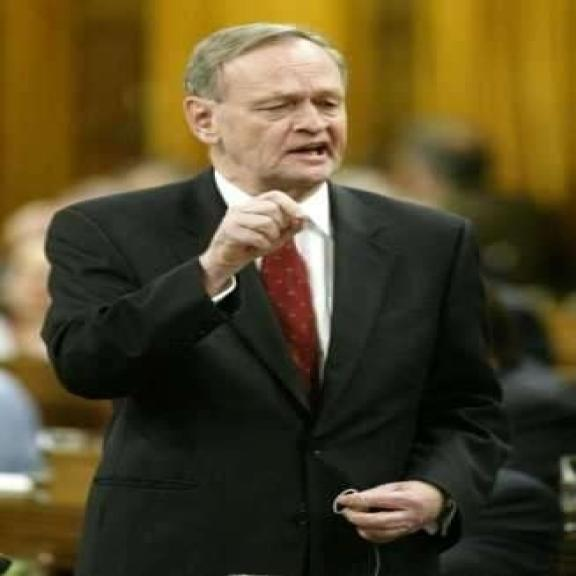face: (184, 22, 350, 188)
